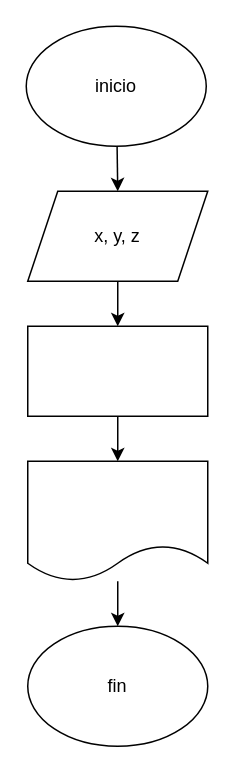
The diagram is 234 pixels wide and 773 high, and some of its shapes have lost their labels. Each missing label, with the centre of its shape:
a = z * 100 b = y * 10 c = x * 1 ni = a + b + c: [117,370]
a, b, c, ni: [117,520]
